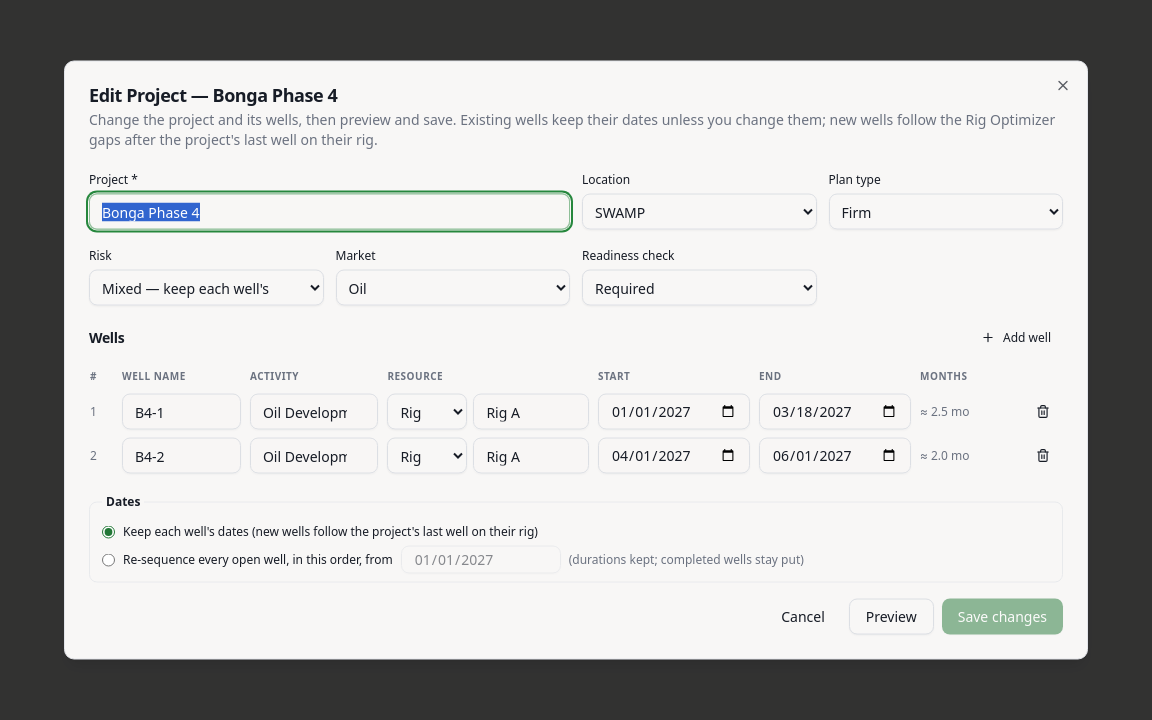
EditProjectDialog › shows the server's reason when the save is refused
Step 1. Click the button "Preview" → (891, 616), box x1=849 y1=598 x2=934 y2=634
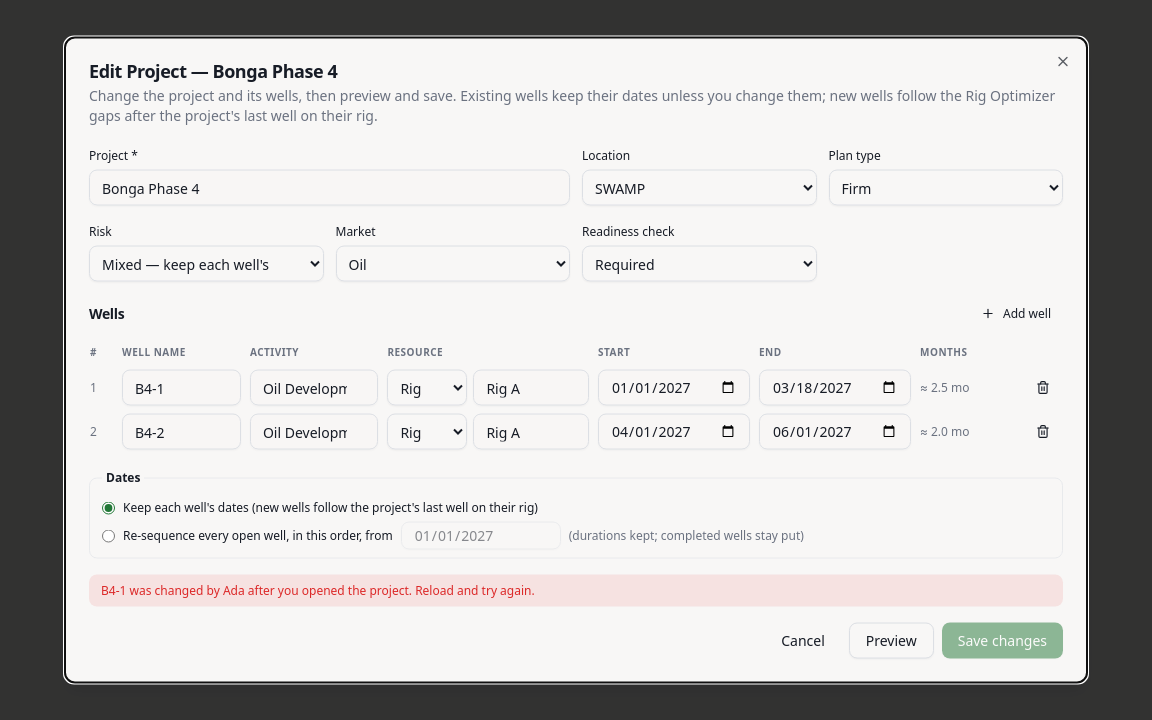
Now the message shows "changed by Ada", box x1=101 y1=582 x2=535 y2=598
